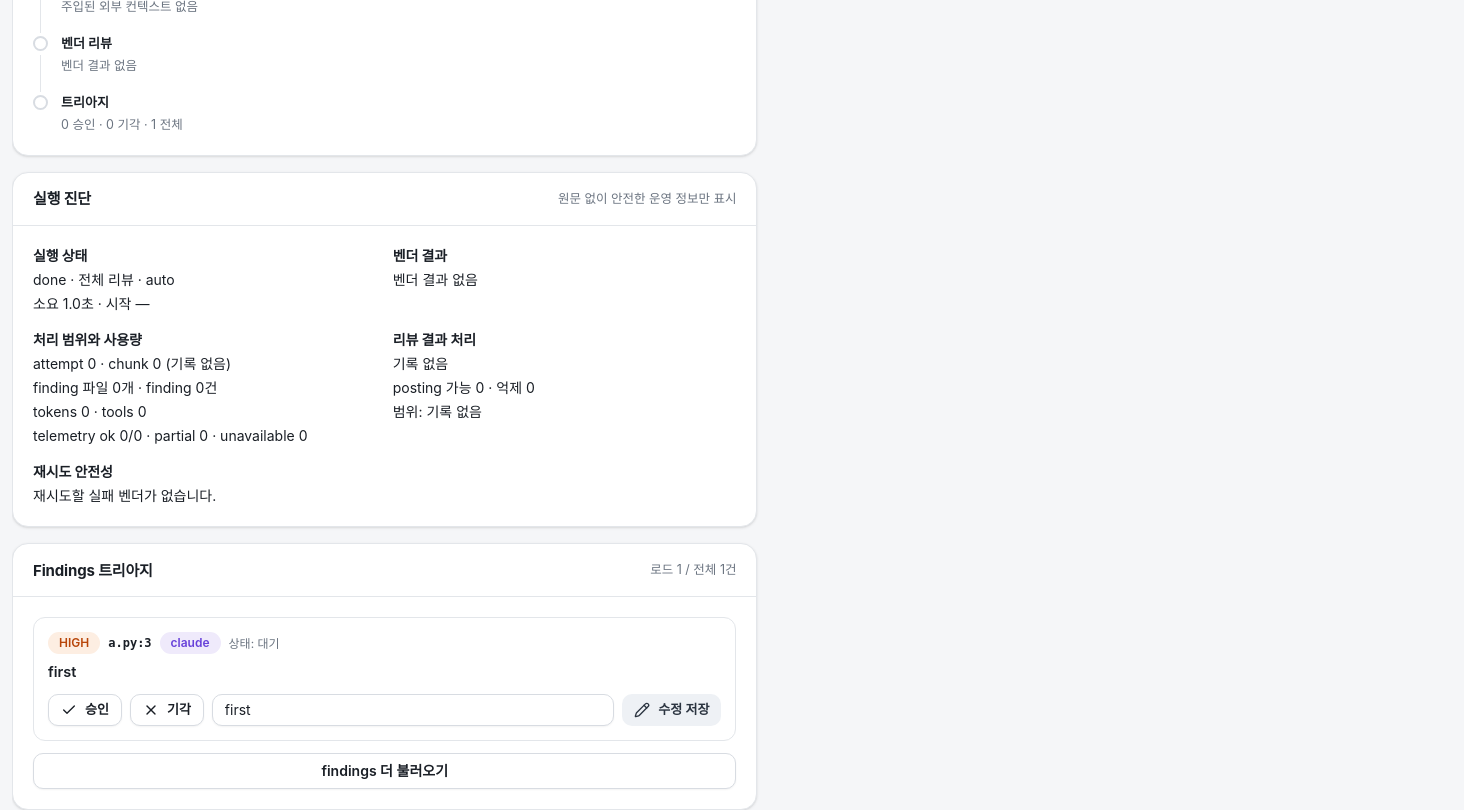
Test: expired run and finding cursors recover from their first pages
(page scrolled)
Click the button "findings 더 불러오기" at (385, 771), box [33,753,736,789]
(page scrolled)
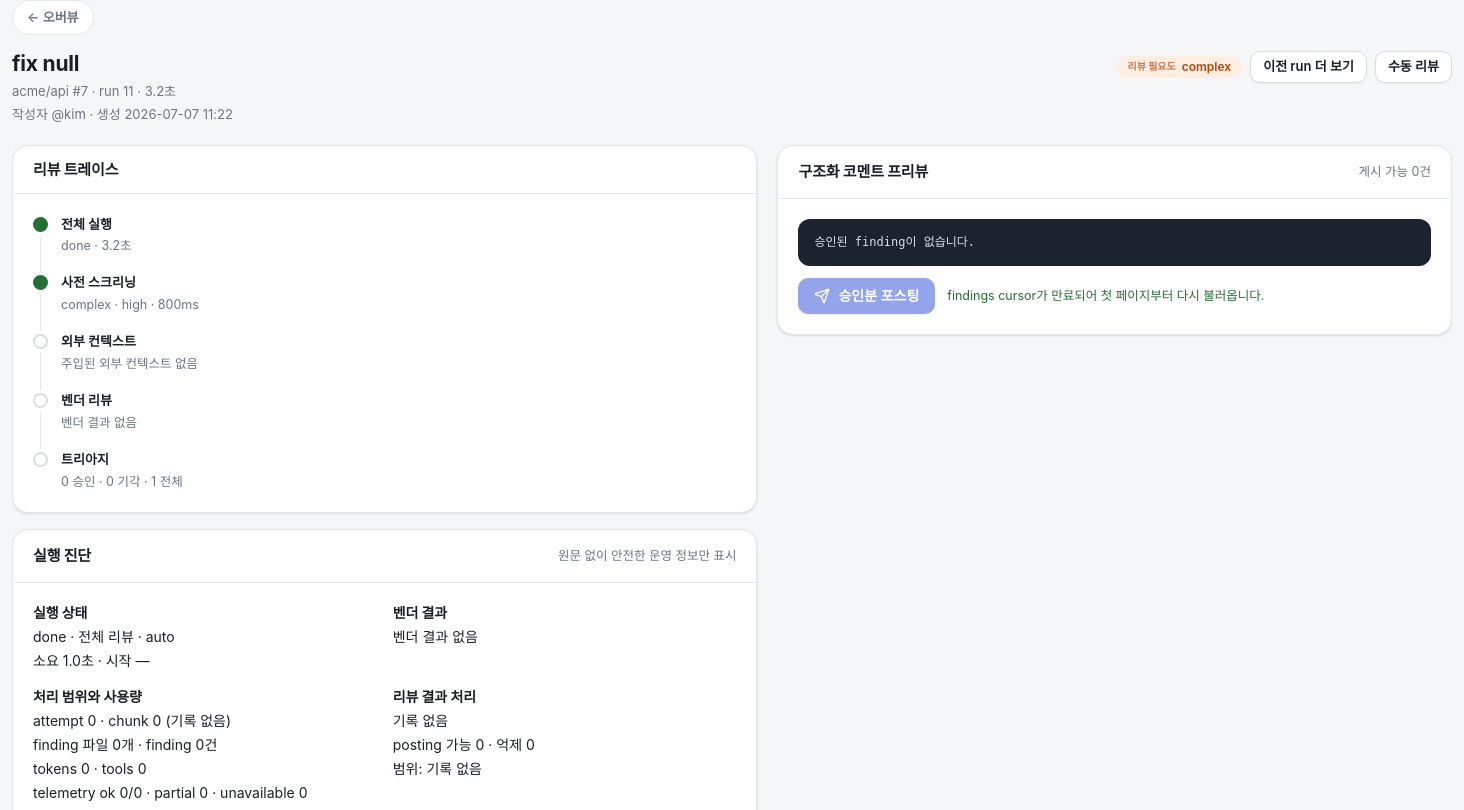
Click the button "이전 run 더 보기" at (1309, 67), box [1250,51,1367,83]
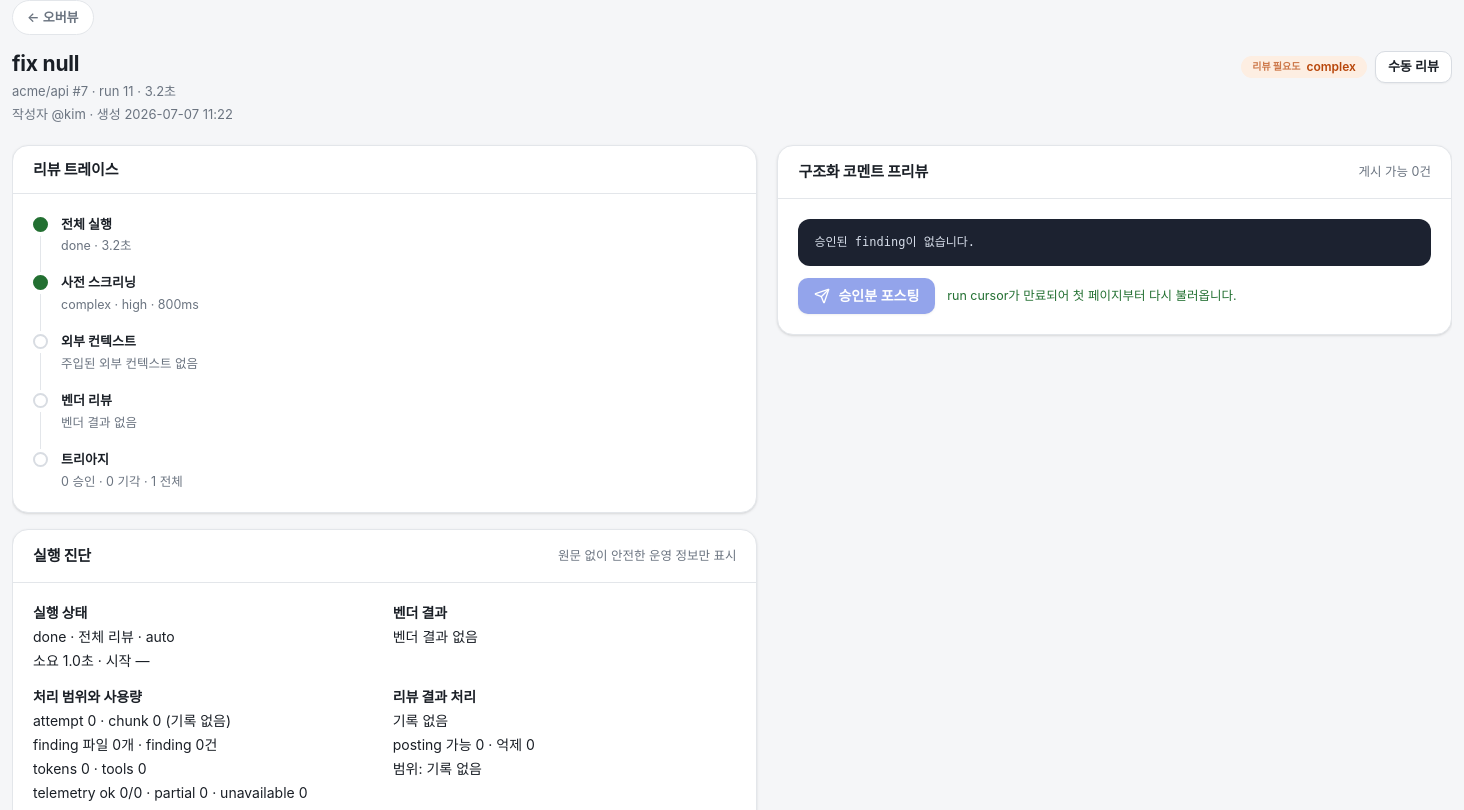
Expected: the button "findings 더 불러오기" is not shown
Expected: the button "이전 run 더 보기" is gone
